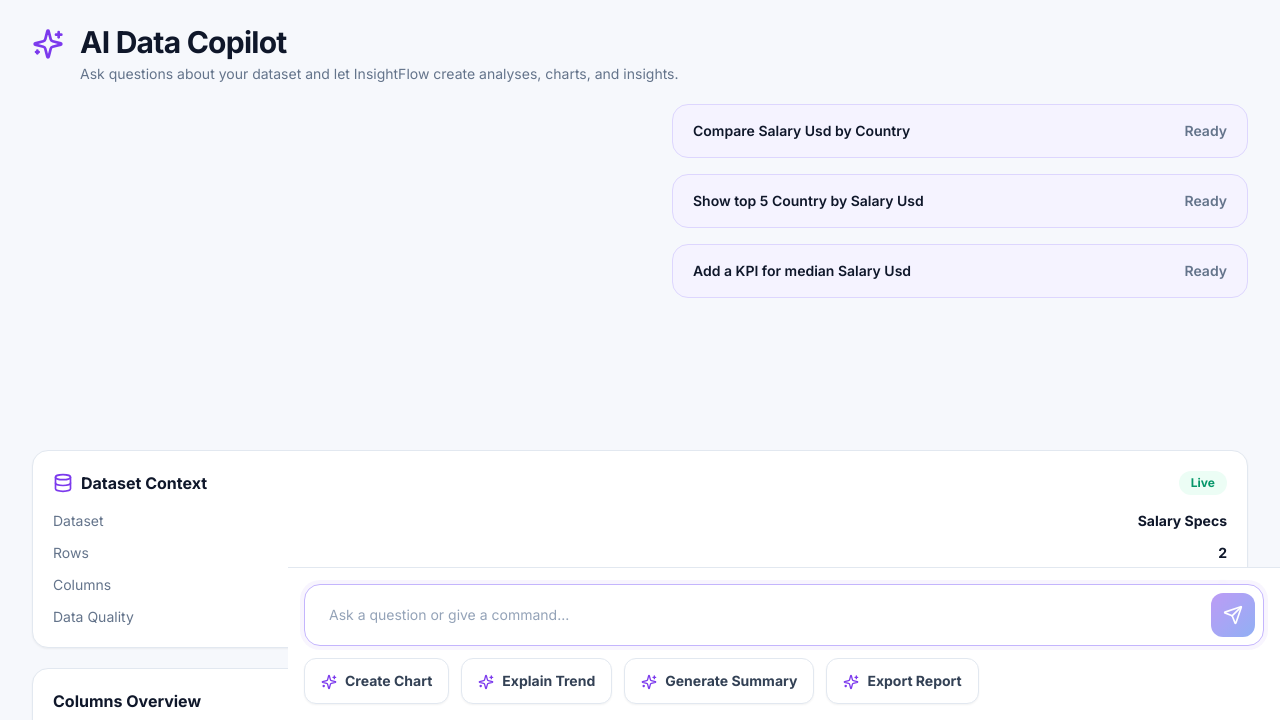
Test: ChatPage Schema-Only › renders active dataset context and can interact with backend AI chat
Expected: the text "Salary Specs" is shown, [1138,511,1227,531]
Expected: the text "2" is shown, [1218,543,1227,563]
Type "Show average salary_usd by country" into the field named "Ask InsightFlow Copilot a question or command" at (758, 615), box [313,593,1203,637]
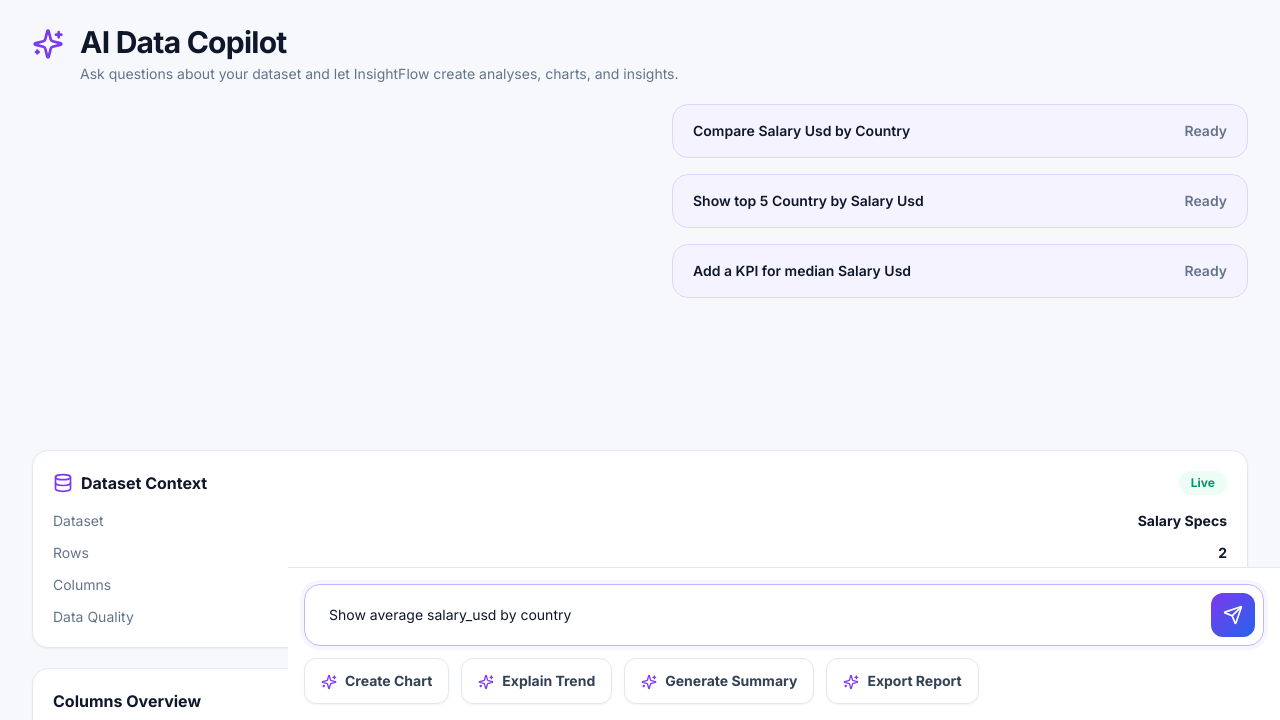
Press Enter in the field named "Ask InsightFlow Copilot a question or command", box [313,593,1203,637]
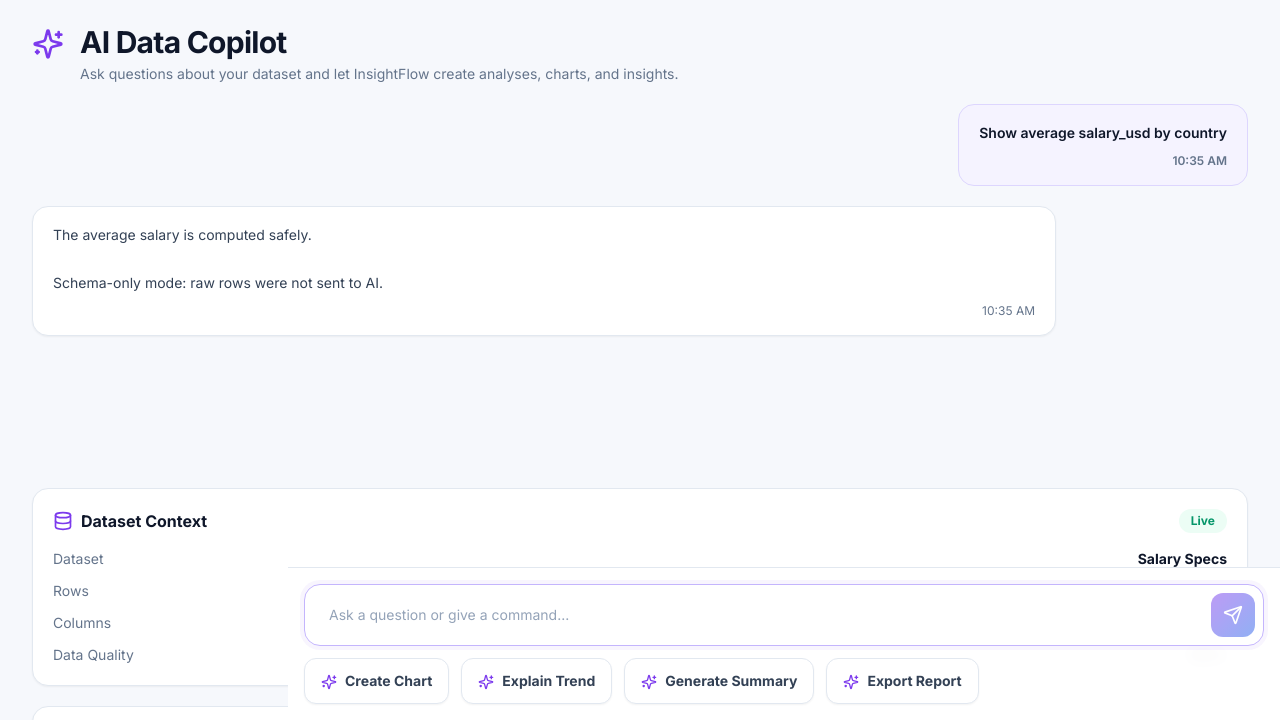
Expected: the text "Schema-only mode: raw rows were not sent to AI." is shown, [53,226,383,291]
